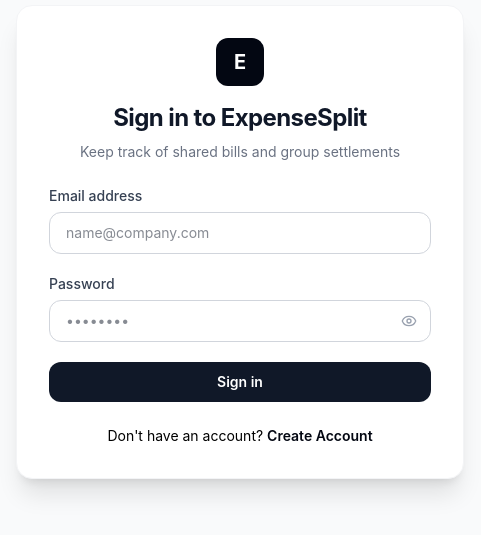
Test: Login Component › shows error for invalid email address format
The image size is (481, 535).
Type "invalidemail" into the field labelled "Email address".
click(240, 233); type("invalidemail")  # box [49, 212, 431, 254]
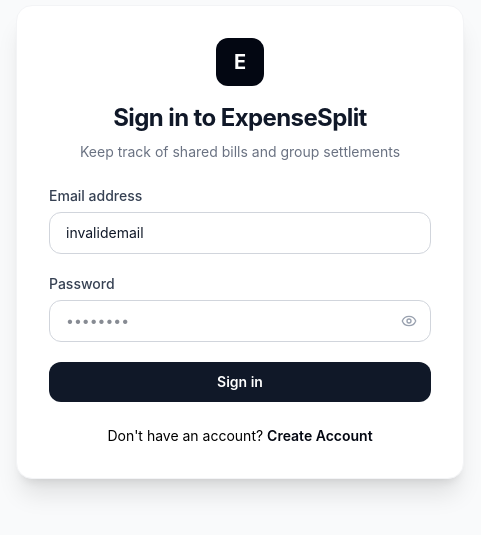
Click the button "Sign in".
click(240, 382)  # box [49, 362, 431, 402]
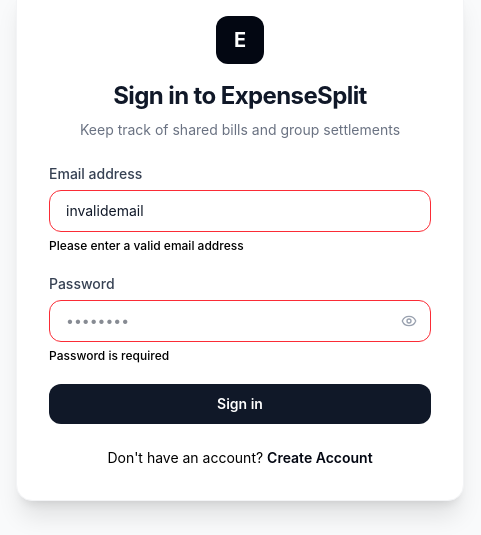
Result: the text "Please enter a valid email address" is shown at [49, 238, 244, 253]
